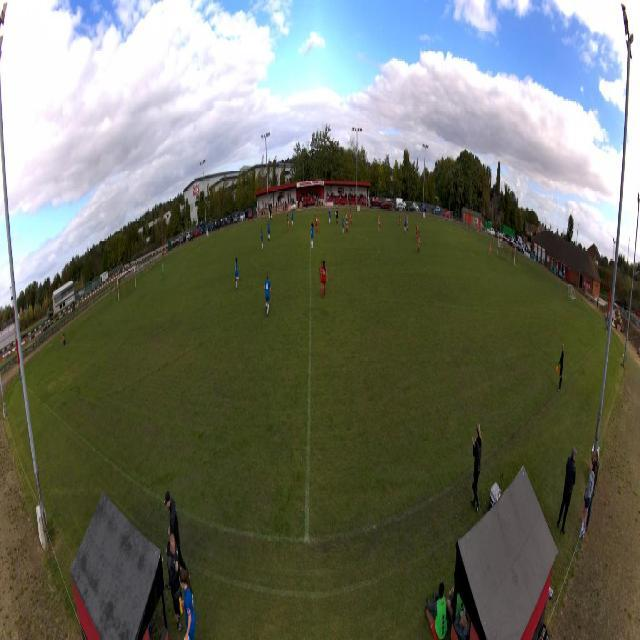ball: (335, 212, 337, 216)
player: (264, 271, 272, 317), (321, 259, 327, 298), (235, 257, 240, 291), (311, 222, 315, 249), (315, 215, 319, 235), (261, 227, 264, 251), (162, 261, 165, 282), (418, 231, 421, 252), (268, 220, 271, 240), (342, 215, 345, 235), (346, 214, 349, 233), (378, 215, 381, 234), (329, 208, 332, 226), (349, 208, 352, 225), (404, 216, 407, 233), (291, 210, 294, 226), (398, 213, 401, 229), (489, 241, 492, 257), (287, 214, 289, 233), (416, 222, 418, 241), (407, 216, 409, 234), (336, 208, 338, 224)
